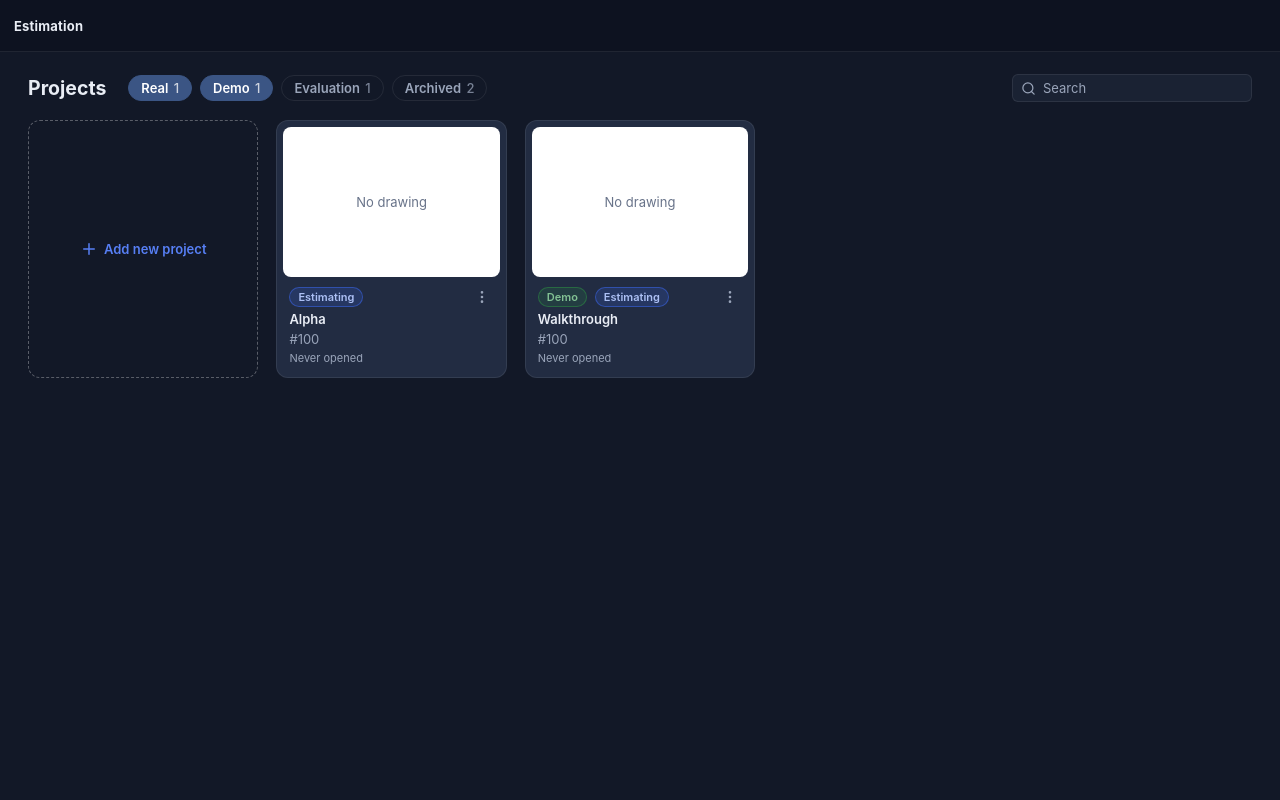
Test: projects screen › filter chips: real and demo by default, evaluation and archived only when on
expect the text "Alpha" is shown: met, box [289, 311, 326, 327]
expect the text "Walkthrough" is shown: met, box [538, 311, 618, 327]
What coordinates should you click on to do the following:
click the button "Archived 2"
I would click on:
 (440, 88)
Its box is [392, 75, 488, 101].
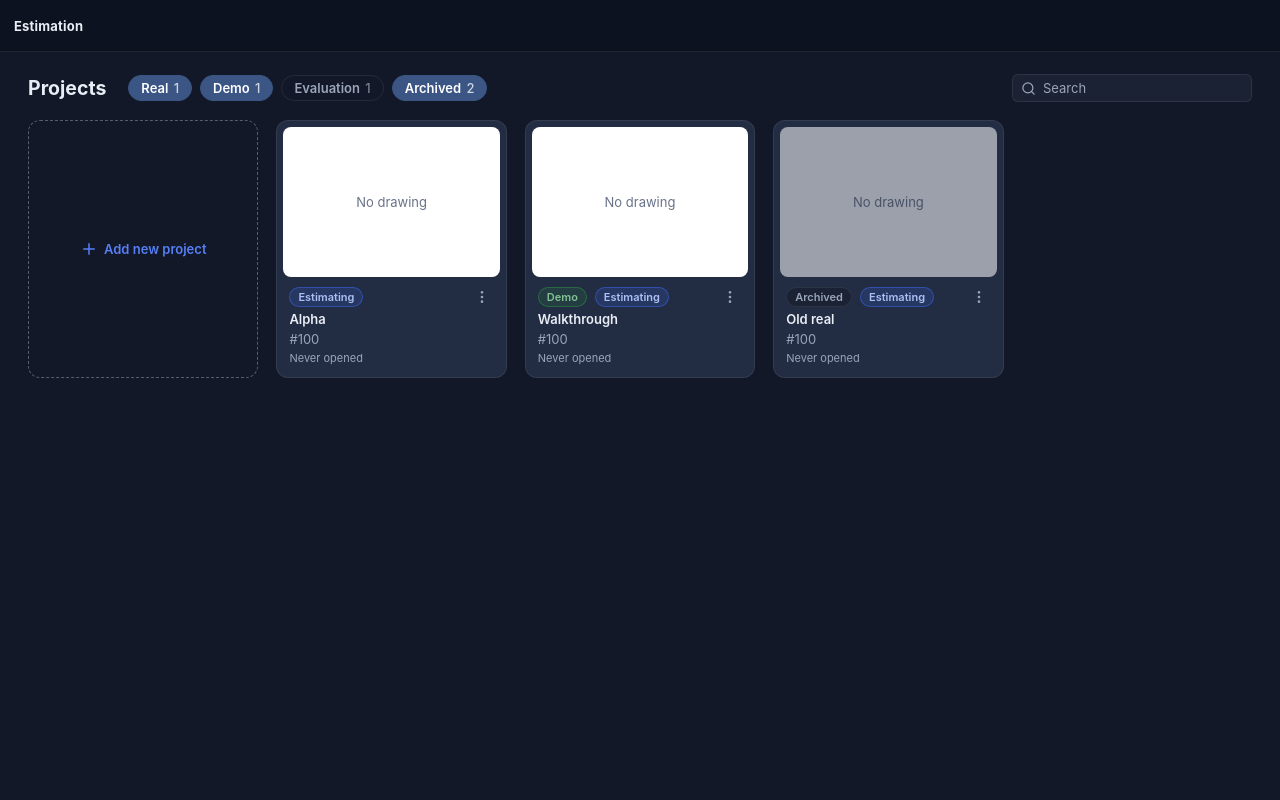
expect the text "Old copy" is not shown: met
expect the text "Old real" is shown: met, box [786, 311, 834, 327]
What coordinates should you click on to do the following:
click the button "Evaluation 1"
I would click on:
 (332, 88)
Its box is [281, 75, 384, 101].
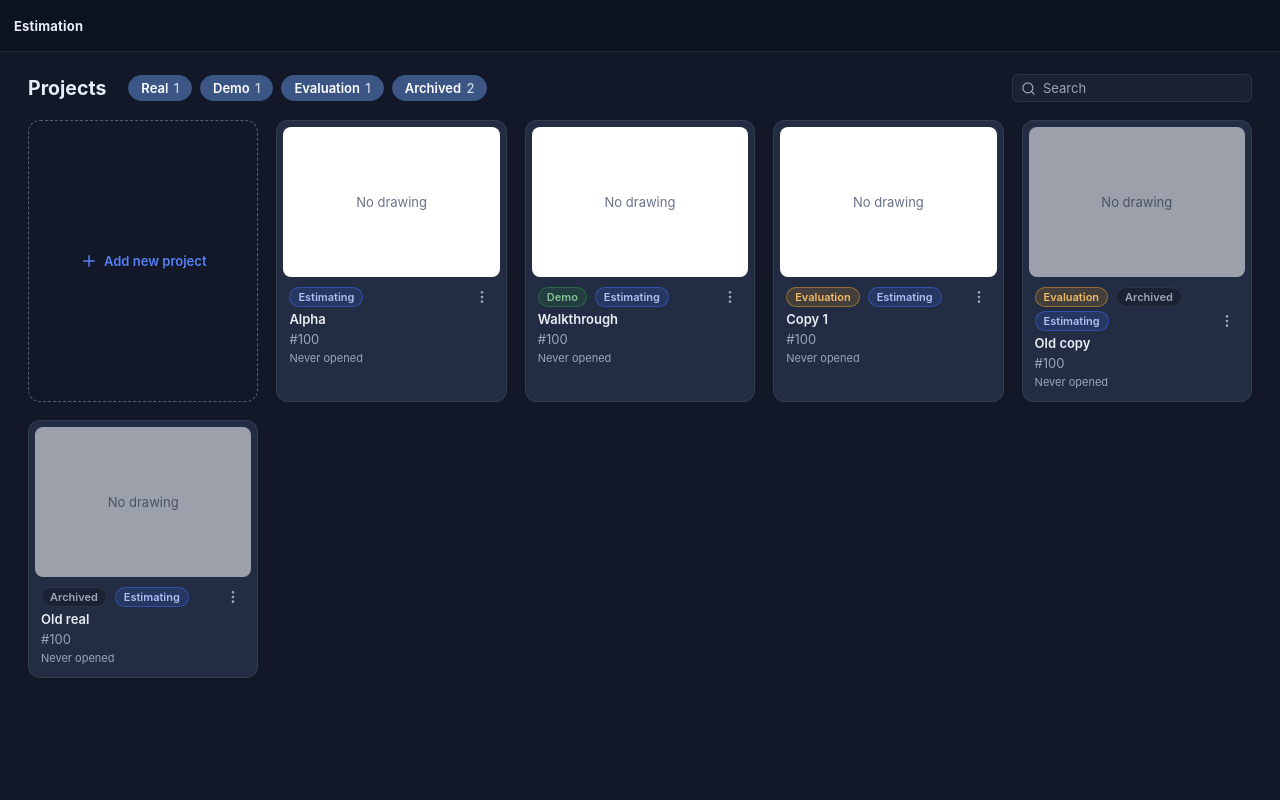
expect the text "Copy 1" is shown: met, box [786, 311, 828, 327]
expect the text "Old copy" is shown: met, box [1035, 335, 1090, 351]
